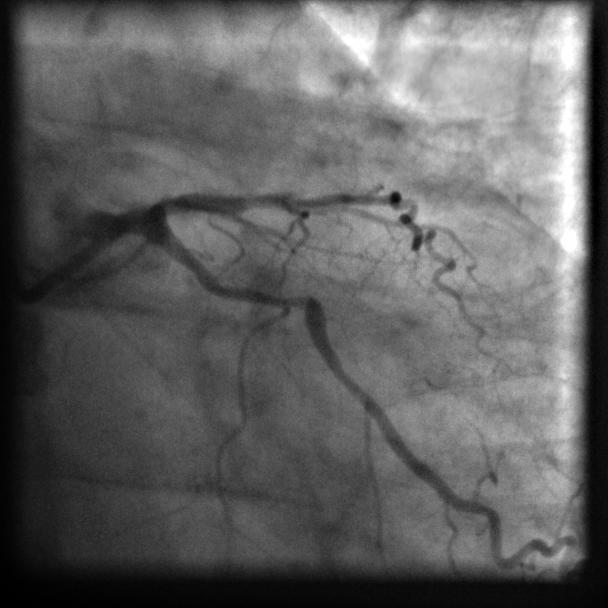Stenosis: (215, 274, 307, 313)
